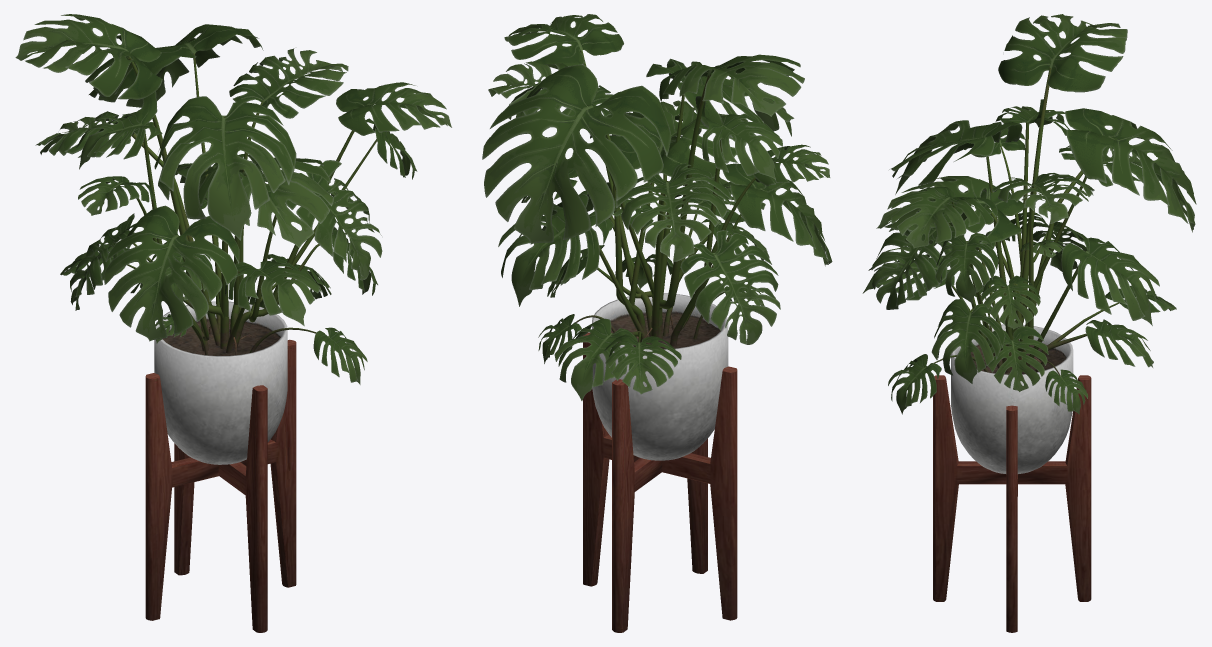
3 renders of one model, left to right at view 1: azimuth 30°, elevation 25°; view 2: azimuth 150°, elevation 25°; view 3: azimuth 270°, elevation 25°, orthographic. The views are drawn at different scales.
Parts seen in each view (by area): view 1: Leaves, Stand, Pot_LP, root_HP_1_Mat.2_0; view 2: Leaves, Stand, Pot_LP, root_HP_1_Mat.2_0; view 3: Leaves, Stand, Pot_LP, root_HP_1_Mat.2_0.
Boxes of the visible parts, bbox=[...] form: Leaves: bbox=[15, 14, 451, 384]; Stand: bbox=[145, 339, 296, 632]; Pot_LP: bbox=[154, 301, 287, 464]; root_HP_1_Mat.2_0: bbox=[124, 53, 376, 355]; Leaves: bbox=[482, 14, 832, 400]; Stand: bbox=[583, 332, 737, 632]; Pot_LP: bbox=[592, 293, 728, 460]; root_HP_1_Mat.2_0: bbox=[559, 50, 755, 346]; Leaves: bbox=[862, 14, 1196, 414]; Stand: bbox=[933, 375, 1091, 632]; Pot_LP: bbox=[951, 324, 1073, 473]; root_HP_1_Mat.2_0: bbox=[933, 68, 1119, 375].
Size of the model in its own units: 0.8695 by 1.36 by 0.7911.
Materials: 3 (3 with a texture image).
